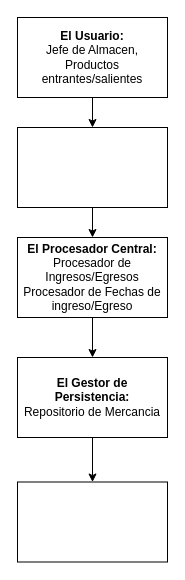
Some shapes in this 185 by 580 pixel diagram are drawn without their labels. The shapes that lost their labels are listed below. From the top down, each one's centre as x and y in pixels, then its label:
the point at 92,167: La Interfaz: Controlador API REST
the point at 92,521: El Almacenamiento fisico: Base de Datos MySQL
